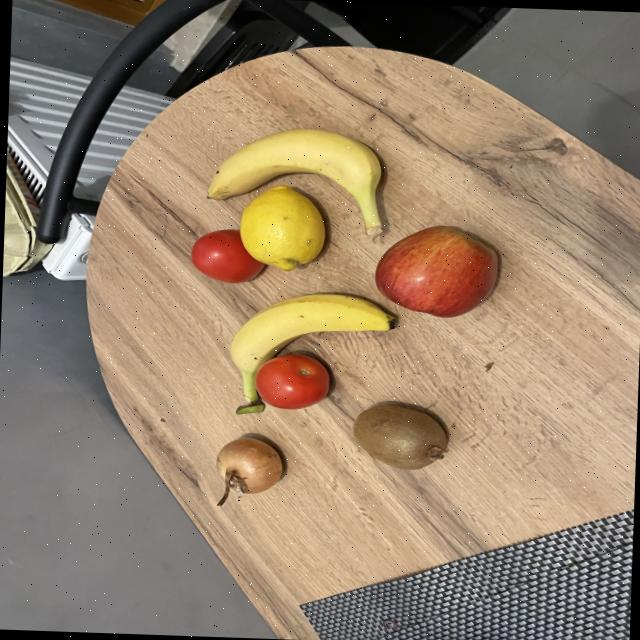apple: (373, 225, 497, 316)
banana: (206, 128, 380, 234), (229, 292, 393, 401)
kiwi: (351, 404, 446, 468)
lemon: (238, 183, 323, 270), (215, 436, 282, 504)
tomato: (254, 353, 328, 408), (189, 228, 264, 282)
